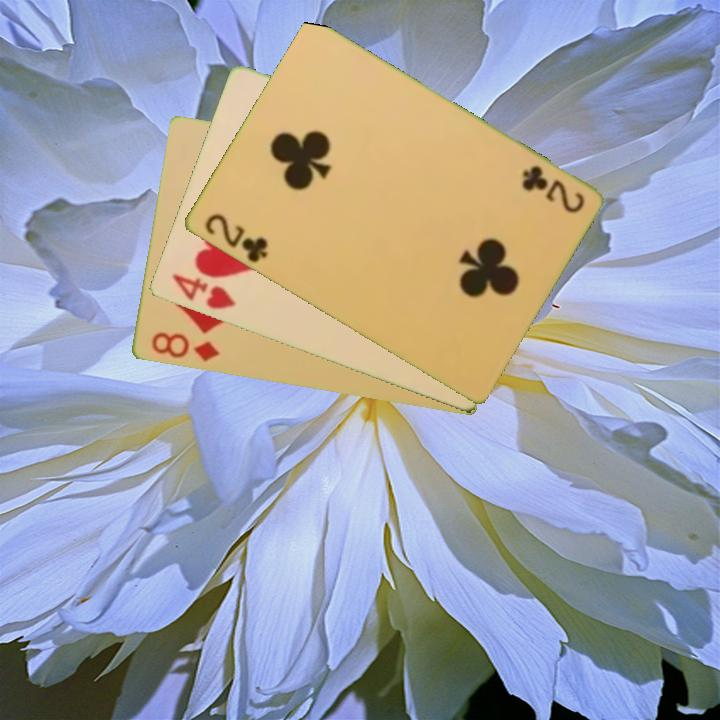2c: (200, 210, 271, 266), (518, 162, 587, 217)
4h: (167, 270, 238, 313)
8d: (147, 329, 222, 365)
